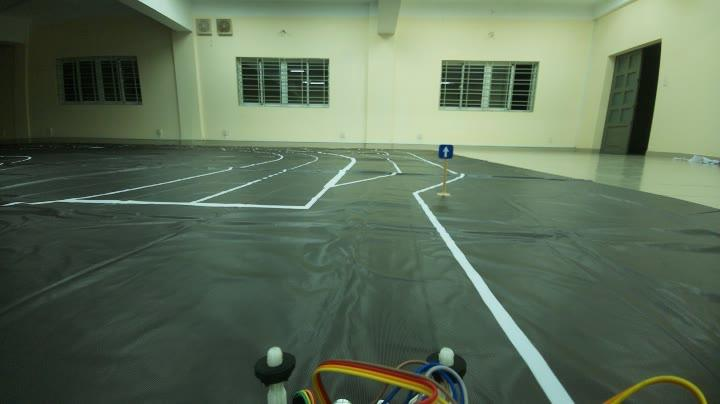onewayroad: (437, 141, 458, 164)
